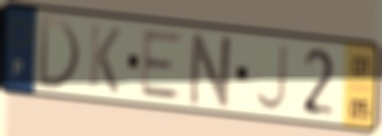2: (302, 45, 337, 120)
D: (35, 13, 83, 93)
E: (138, 29, 187, 103)
J: (253, 41, 289, 115)
K: (86, 21, 123, 97)
N: (186, 30, 238, 113)
